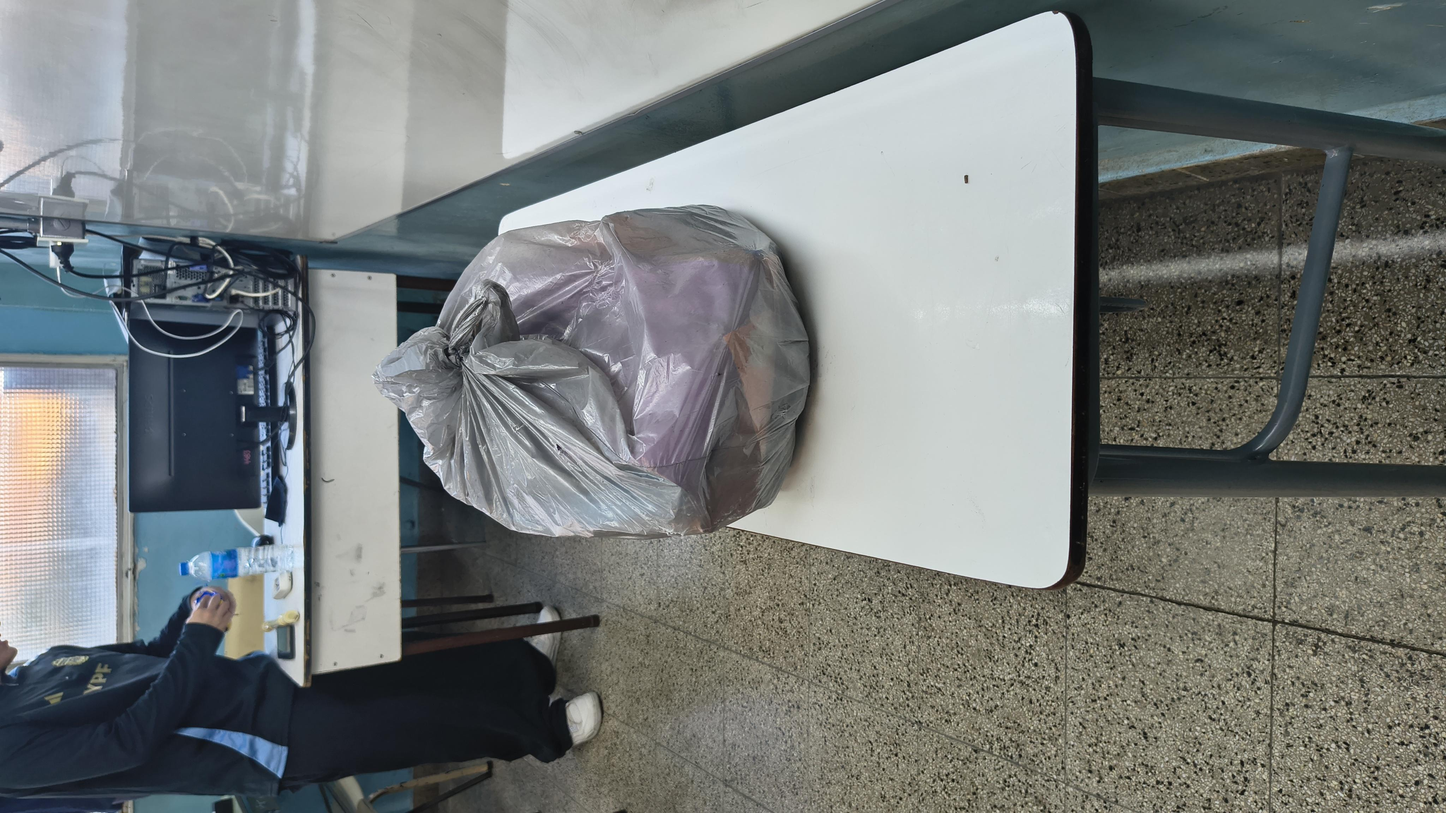Garbage: (458, 198, 1211, 476)
